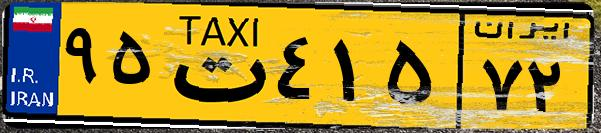1: (330, 28, 385, 110)
2: (525, 38, 570, 115)
4: (270, 28, 330, 110)
5: (385, 28, 445, 110), (110, 28, 158, 98)
7: (475, 38, 525, 113)
9: (57, 26, 110, 100)
ت: (158, 12, 270, 120)
